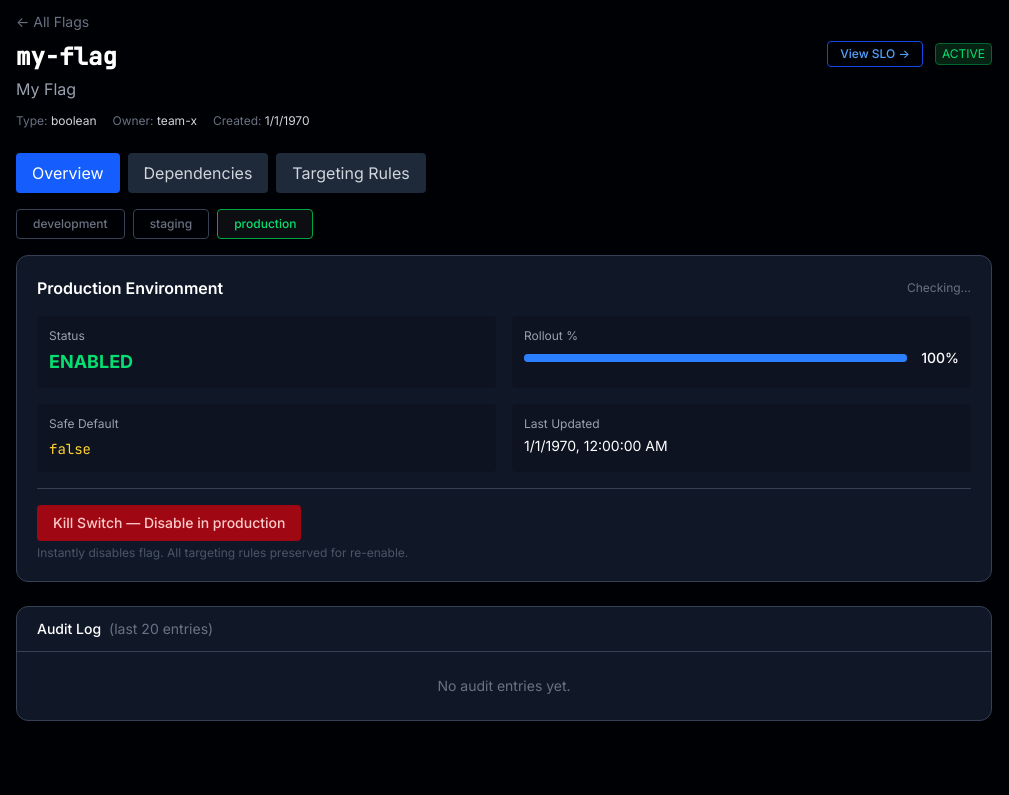
Test: FlagDetail kill switch blast-radius pre-check › queries blast-radius with this env's CURRENT rollout_pct (not 0) and shows the badge instead of killing immediately
Click the button "Kill Switch — Disable in production" at (169, 523), box left=37, top=505, right=301, bottom=541
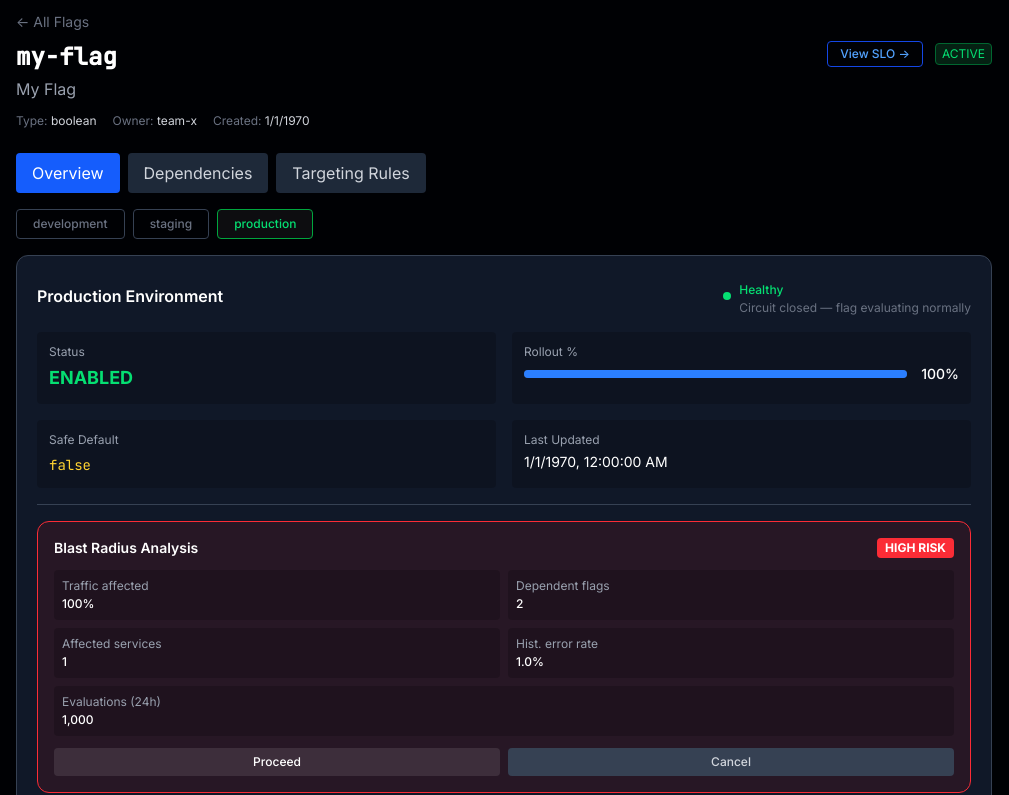
Result: the text "Blast Radius Analysis" is shown at left=54, top=538, right=198, bottom=558
Result: the text "HIGH RISK" is shown at left=877, top=538, right=954, bottom=558
Result: the button "Kill Switch" is gone
